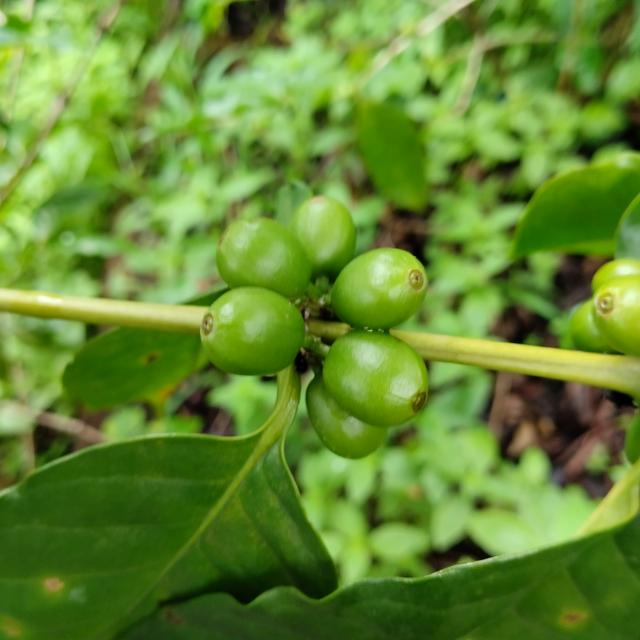green: (323, 329, 428, 428), (200, 286, 305, 375), (331, 248, 428, 330), (216, 217, 312, 298), (306, 374, 388, 459), (289, 195, 356, 280), (595, 274, 640, 356), (592, 258, 640, 293)
